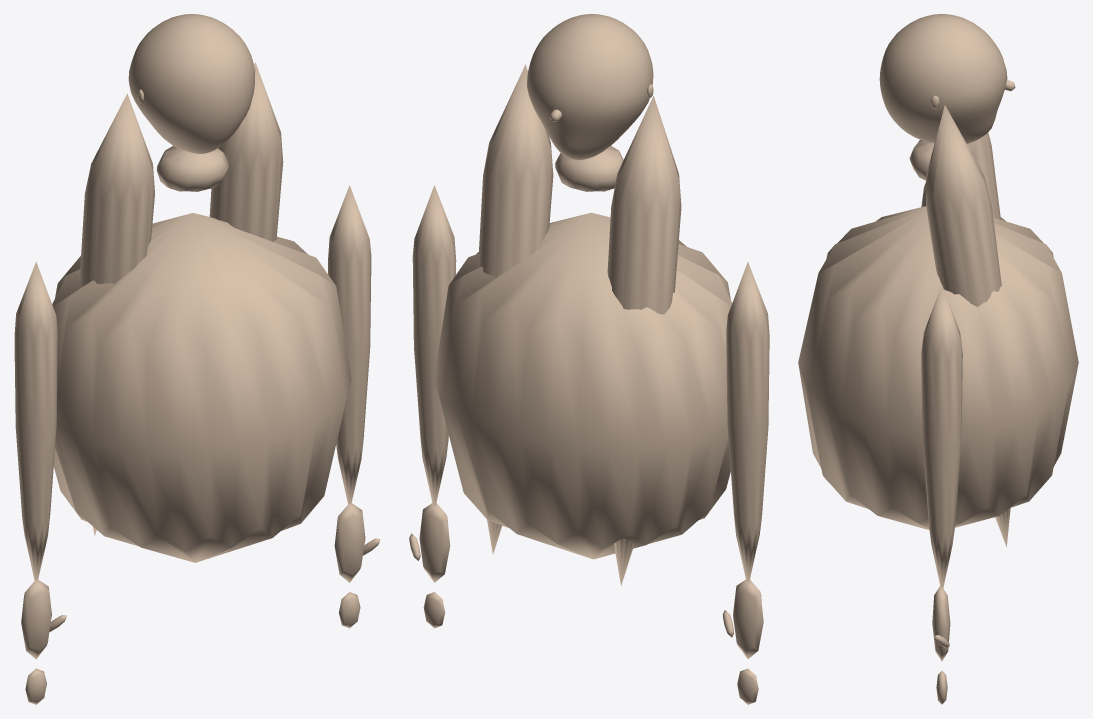
The model's file is raider_heavy.glb.
3 views of the same model, side by side, from view 1: azimuth 30°, elevation 25°; view 2: azimuth 150°, elevation 25°; view 3: azimuth 270°, elevation 25° (orthographic). The views are drawn at different scales.
Visible parts, largest first — view 1: raider_heavy; view 2: raider_heavy; view 3: raider_heavy.
Part boxes in pixels (left/top/right/bottom): raider_heavy: left=14, top=14, right=380, bottom=704; raider_heavy: left=409, top=14, right=769, bottom=704; raider_heavy: left=798, top=14, right=1078, bottom=704.
Size of the model in its own units: 0.6969 by 1.2 by 0.498.
